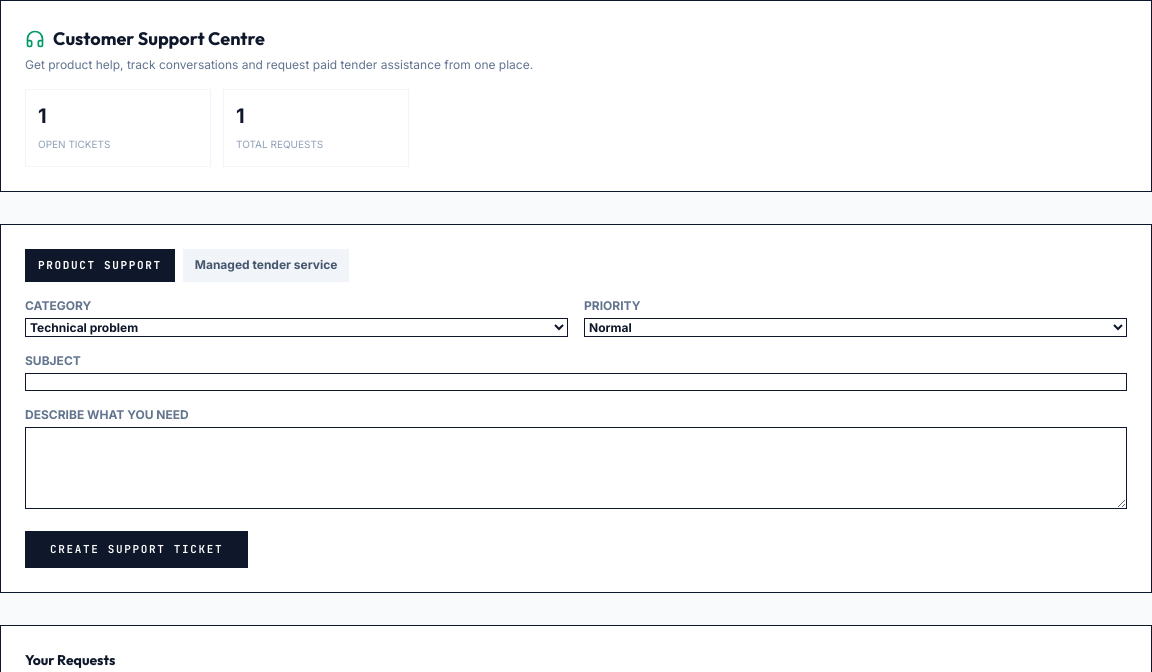
Test: service request workspaces › loads and submits subscriber requests through the focused service API
Click the button "Managed tender service".
click(266, 265)  # box x1=183 y1=249 x2=350 y2=282
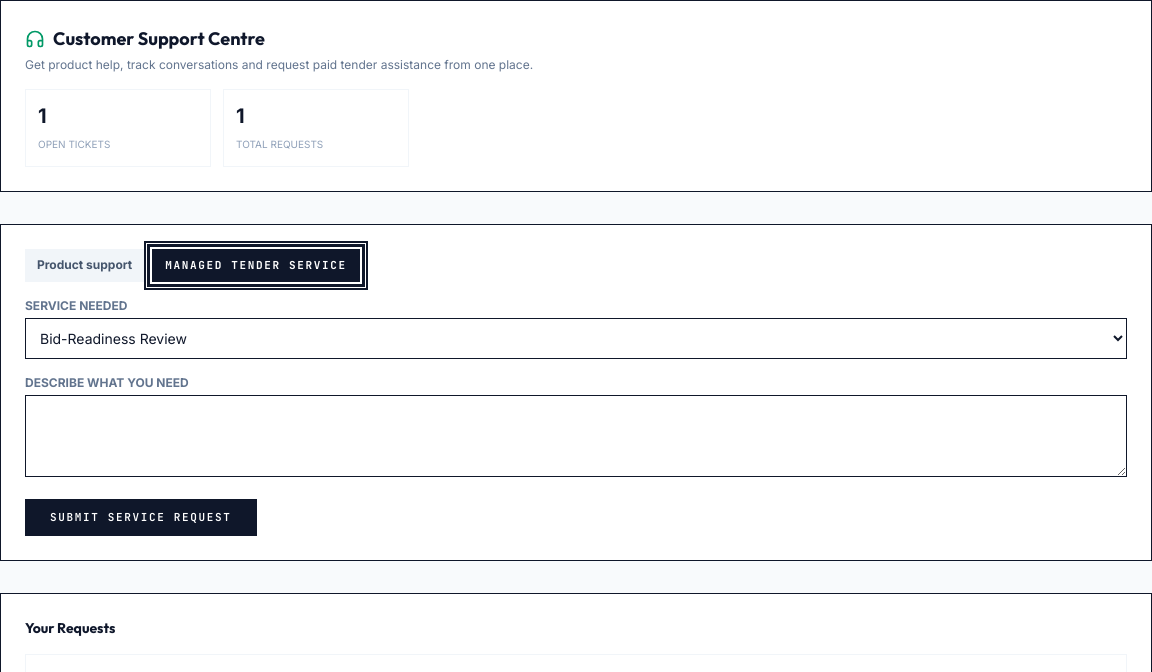
Select "Proposal Review" in the dropdown labelled "Service Needed" at (576, 338), box x1=25 y1=318 x2=1127 y2=359
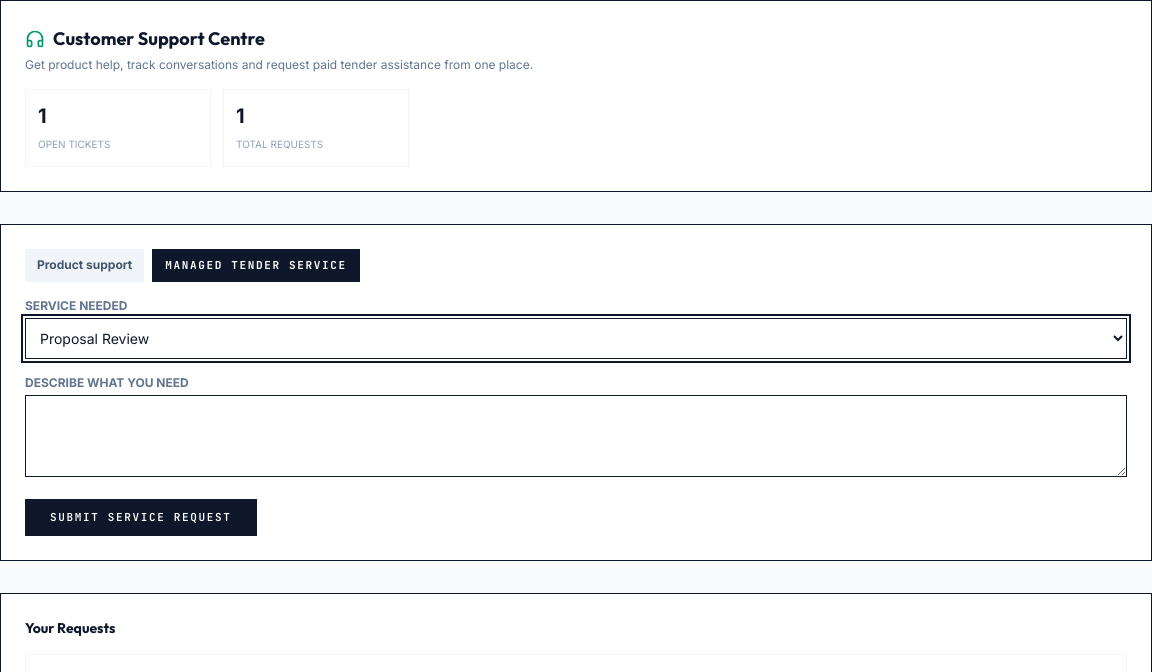
Type "Please review our technical proposal." into the text box.
click(576, 436); type("Please review our technical proposal.")  # box x1=25 y1=395 x2=1127 y2=477
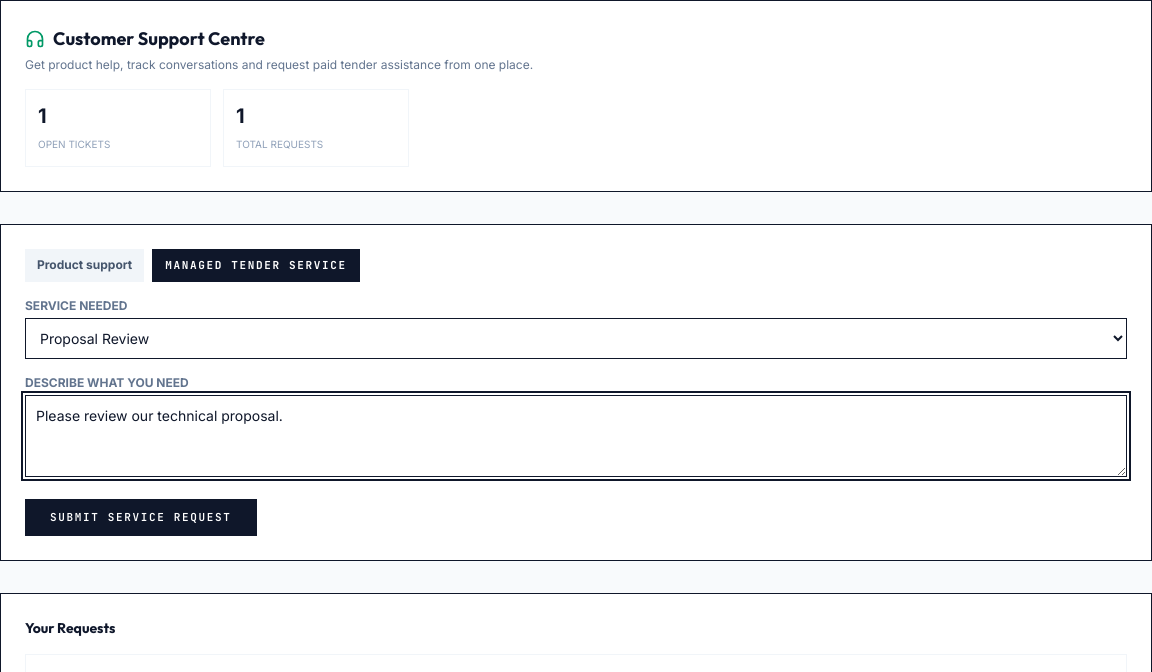
Click the button "Submit Service Request".
click(141, 518)  # box x1=25 y1=499 x2=256 y2=536
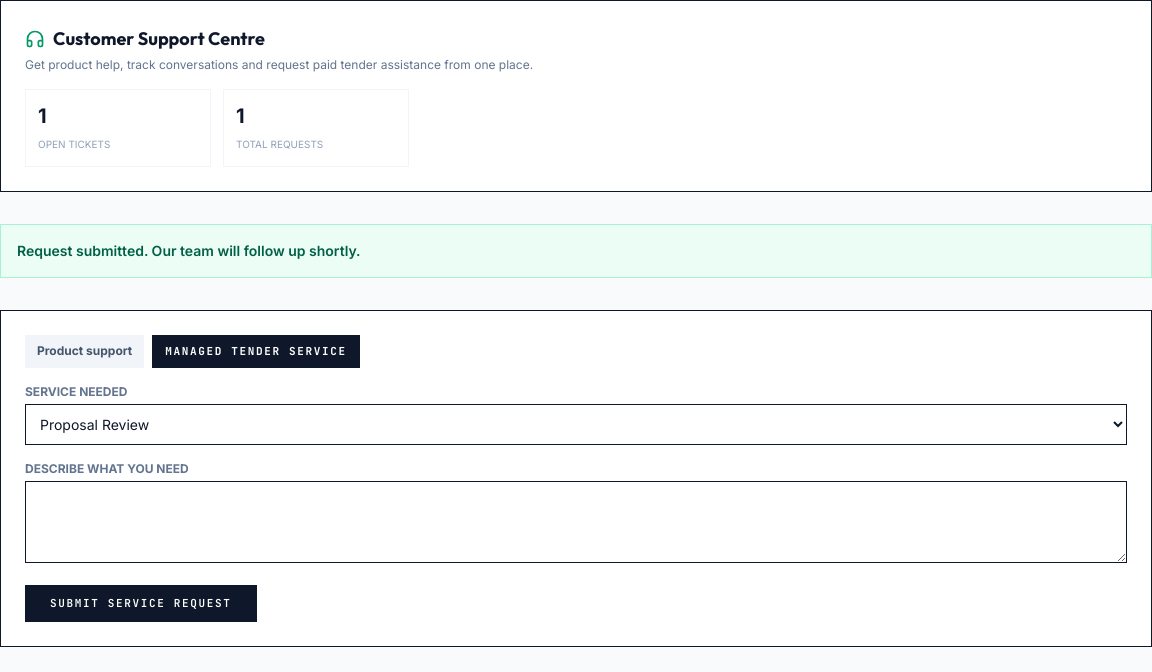
Check: the text "Request submitted. Our team will follow up shortly." is shown, box x1=0 y1=224 x2=1151 y2=278
